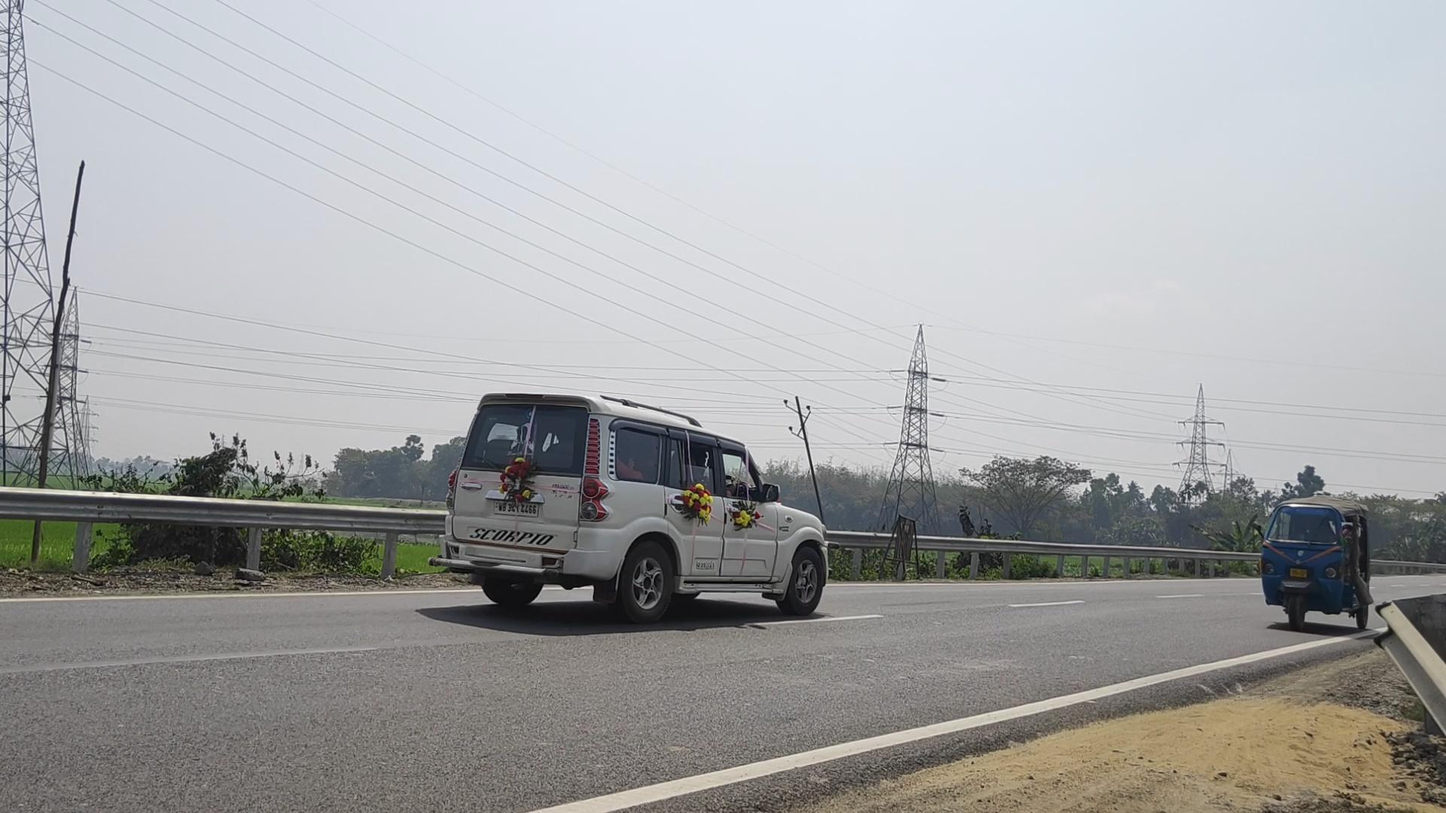Auto: (1252, 495, 1371, 632)
car: (428, 391, 841, 625)
